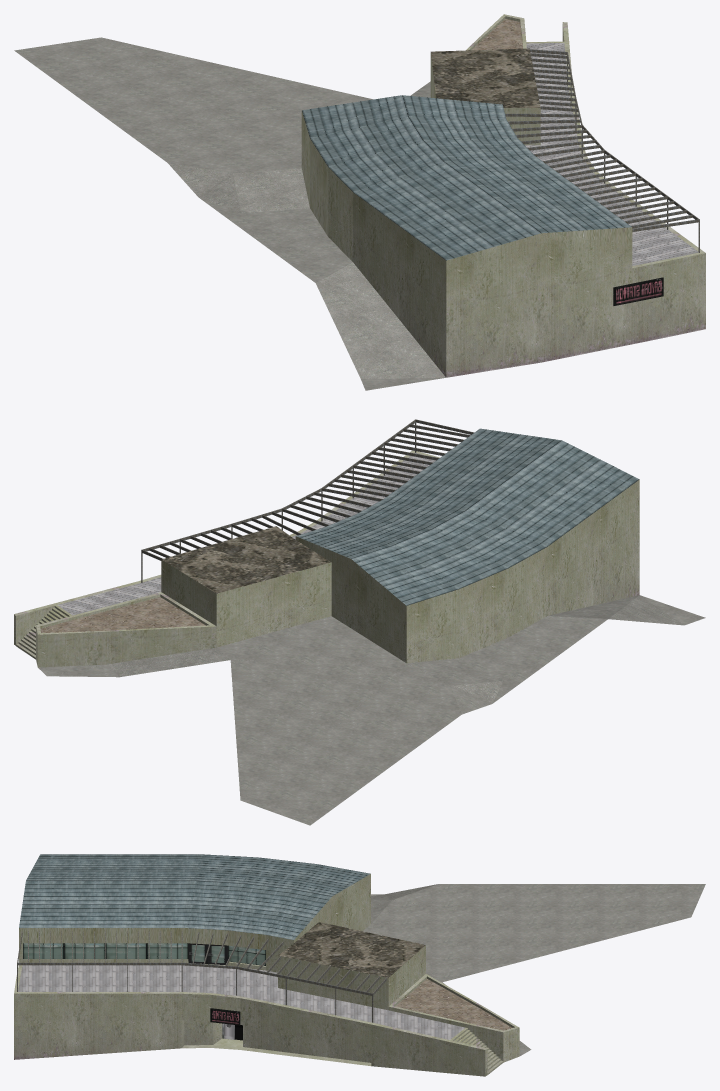
File: gayclub_sfs.obj
3 views of the same model, one above another, from view 1: azimuth 30°, elevation 25°; view 2: azimuth 150°, elevation 25°; view 3: azimuth 270°, elevation 25° (orthographic). The views are drawn at different scales.
Parts seen in each view (by area): view 1: gayclub_SFS; view 2: gayclub_SFS; view 3: gayclub_SFS.
Part boxes in pixels (x1=…): gayclub_SFS: x1=14, y1=14, x2=705, y2=390; gayclub_SFS: x1=14, y1=419, x2=705, y2=825; gayclub_SFS: x1=14, y1=854, x2=705, y2=1076.
Size of the model in its own units: 54.02 by 14.8 by 82.56.
13 materials, 13 textured.
